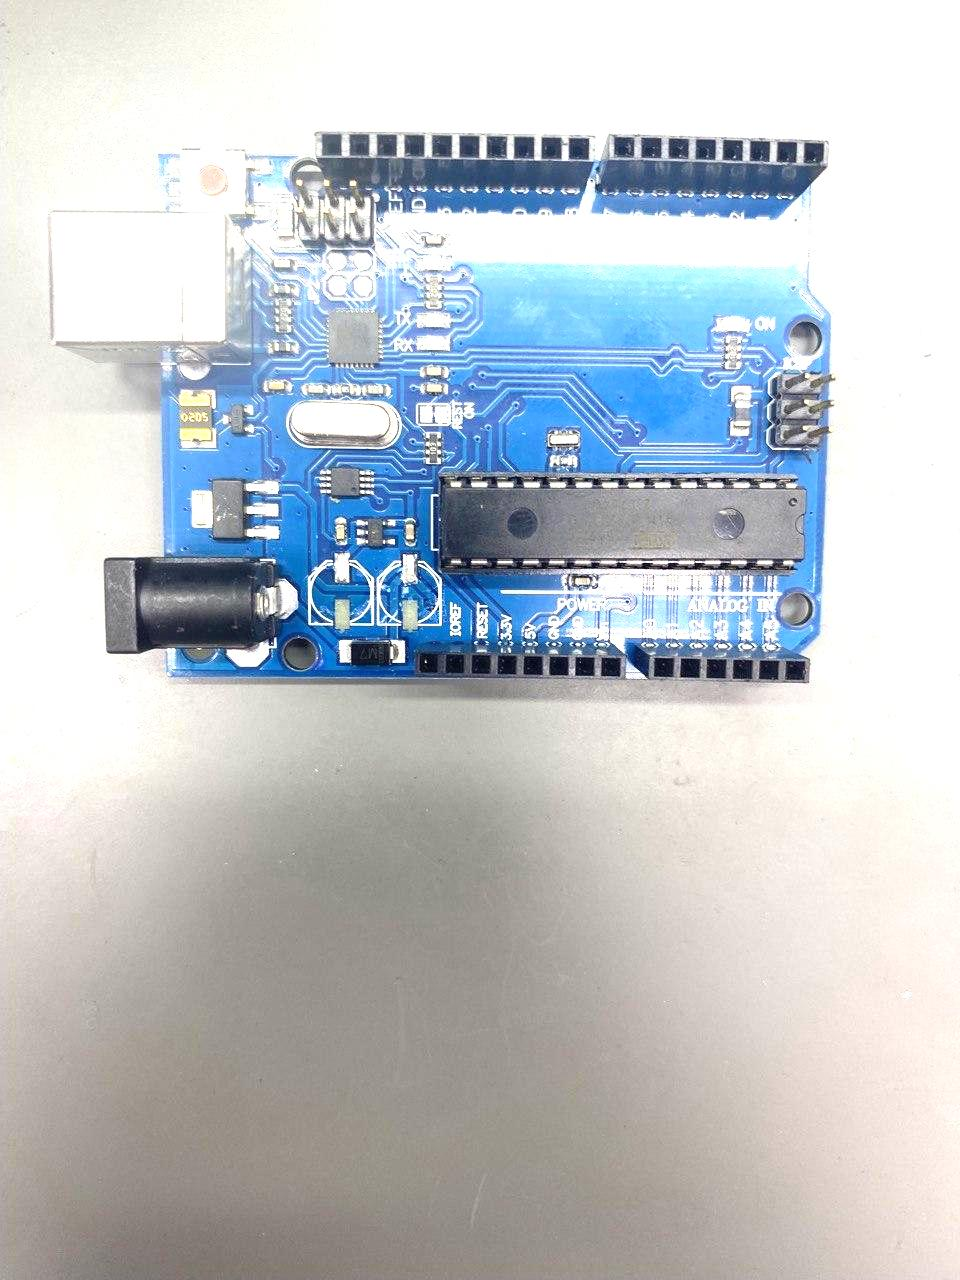ATmega328 chip: (439, 473, 807, 575)
Arduino board: (48, 131, 836, 683)
USB: (48, 211, 251, 365)
pins: (315, 131, 596, 188), (599, 134, 830, 196), (414, 644, 626, 680), (635, 645, 810, 682)
resistor: (425, 274, 443, 309), (274, 299, 292, 334), (724, 337, 742, 369), (426, 432, 442, 465)
